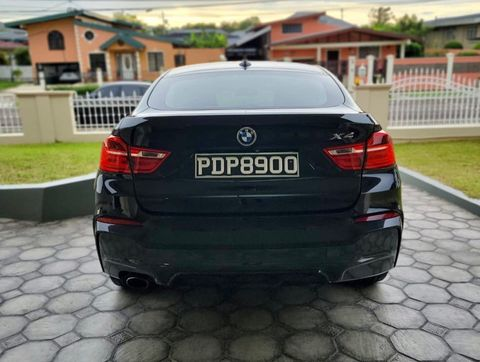License-Plate: (195, 153, 298, 176)
